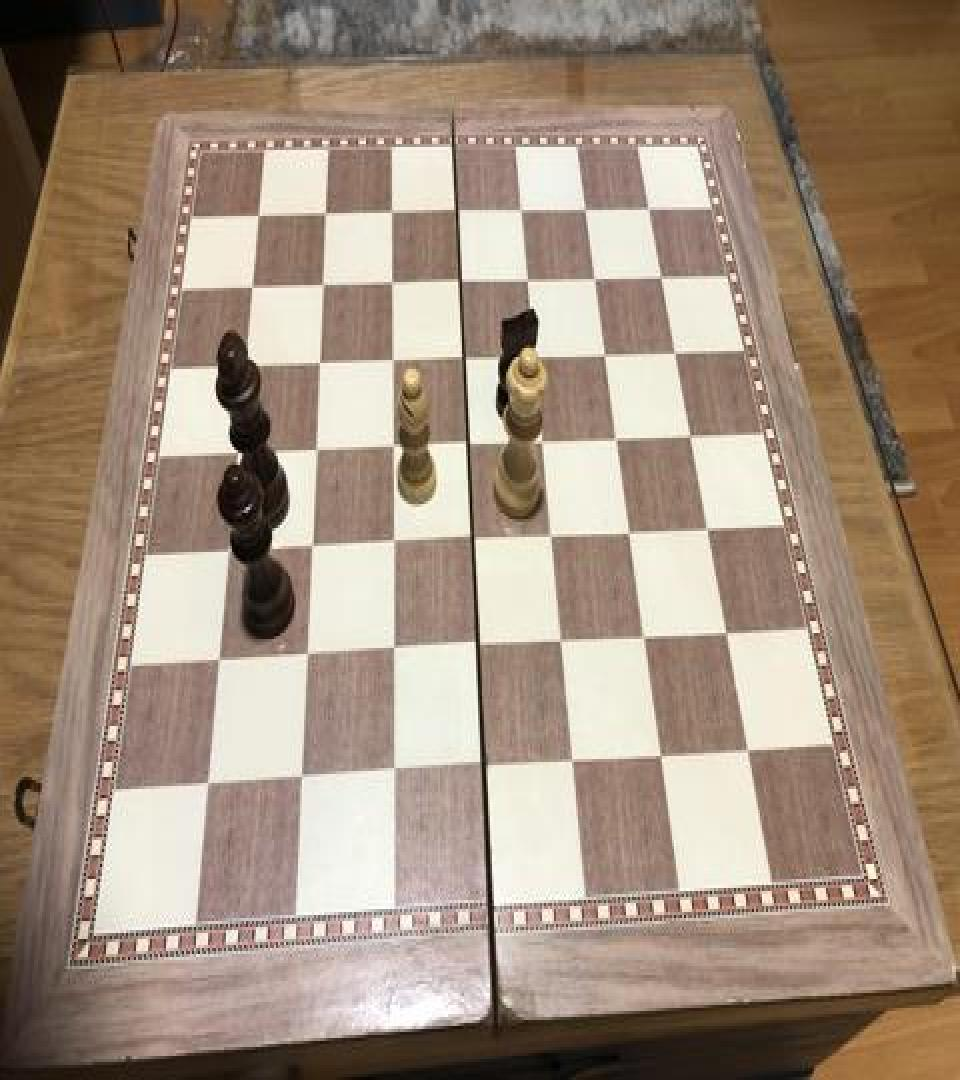xcorner: (539, 520, 563, 557), (715, 616, 739, 653), (465, 631, 489, 668), (294, 640, 318, 677), (208, 646, 232, 683), (649, 739, 673, 776), (289, 763, 313, 800), (197, 769, 221, 806), (635, 192, 659, 228), (571, 195, 595, 231), (507, 196, 531, 232), (443, 200, 467, 236), (378, 201, 402, 237), (313, 204, 337, 240), (648, 261, 672, 297), (581, 264, 605, 300), (514, 266, 538, 302), (446, 268, 470, 304), (378, 272, 402, 308), (310, 273, 334, 309), (241, 276, 265, 312), (662, 336, 686, 372), (592, 339, 616, 375), (521, 342, 545, 378), (450, 345, 474, 381), (379, 348, 403, 384), (306, 351, 330, 387), (234, 354, 258, 390), (678, 420, 702, 456), (604, 423, 628, 459), (530, 426, 554, 462), (379, 434, 403, 470), (303, 436, 327, 472), (226, 441, 250, 477), (695, 513, 719, 549), (617, 516, 641, 552), (459, 525, 483, 561), (379, 530, 403, 566), (299, 532, 323, 568), (217, 537, 241, 573), (632, 621, 656, 657), (549, 627, 573, 663), (380, 636, 404, 672), (737, 735, 761, 771), (560, 746, 584, 782), (471, 752, 495, 788), (380, 758, 404, 794), (247, 206, 271, 241), (455, 431, 479, 466)
